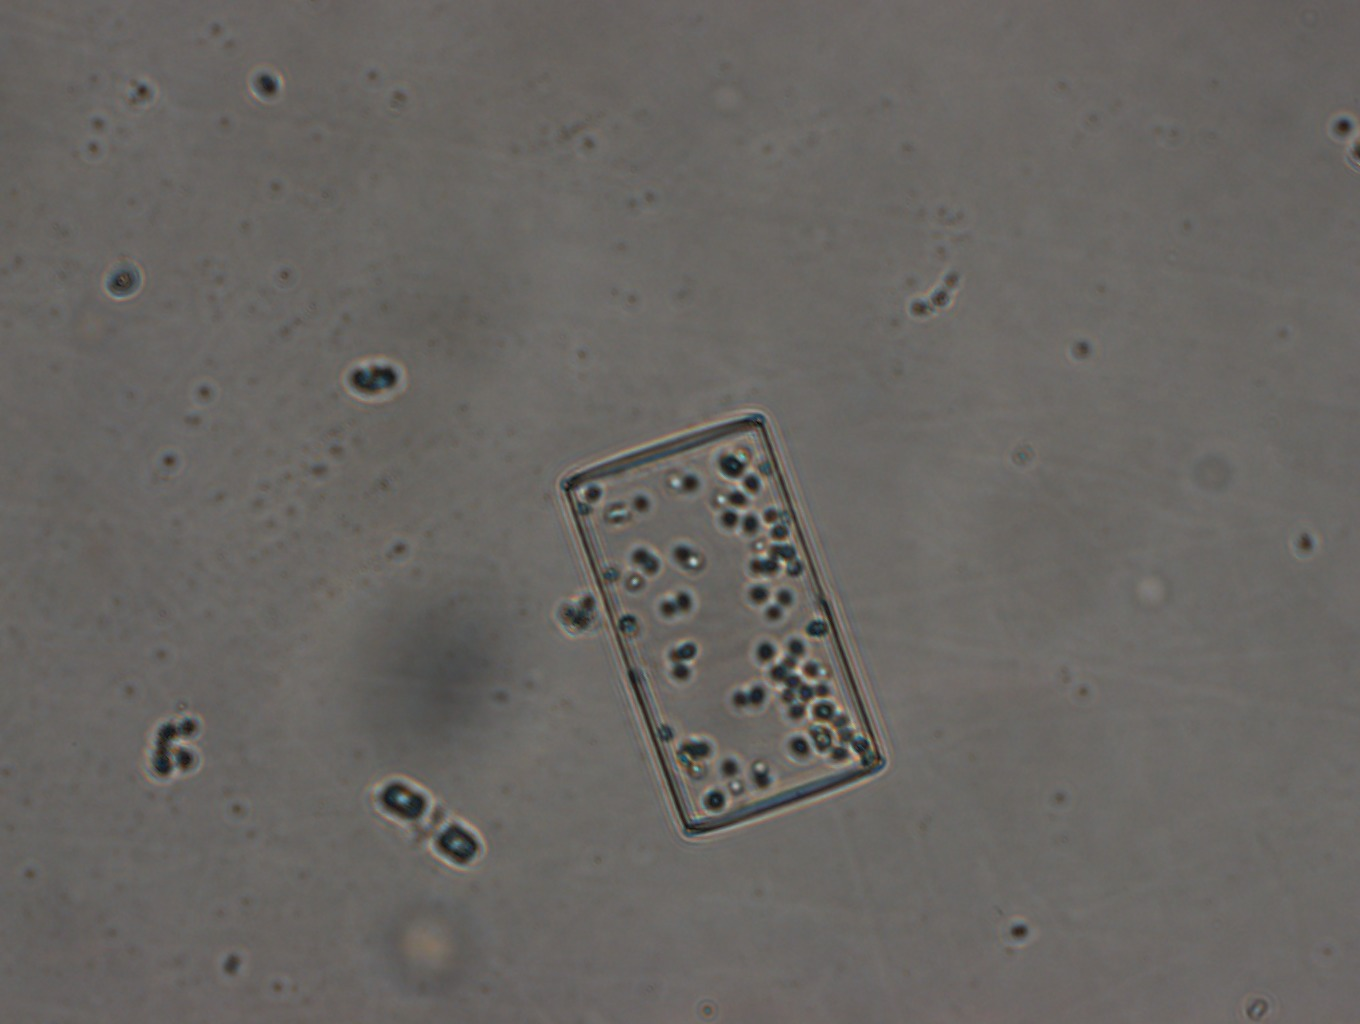guinardia flaccida: (562, 407, 893, 843)
